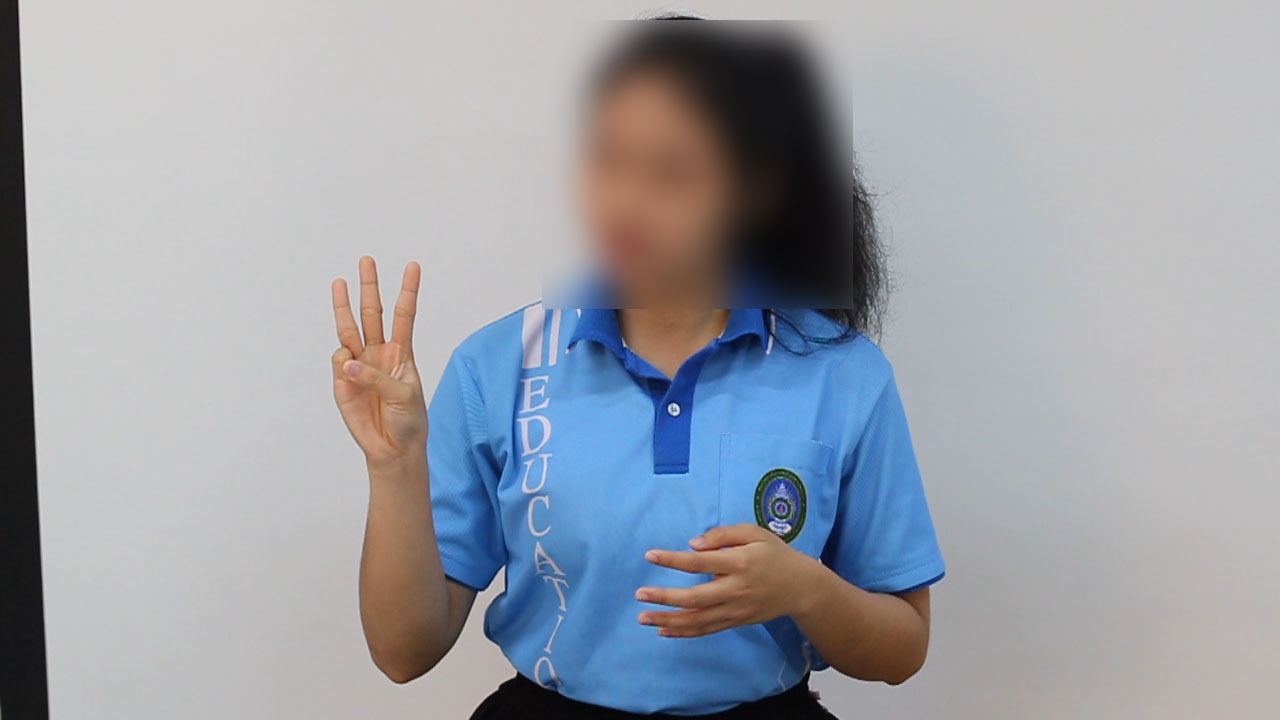wor: (323, 247, 434, 470)
